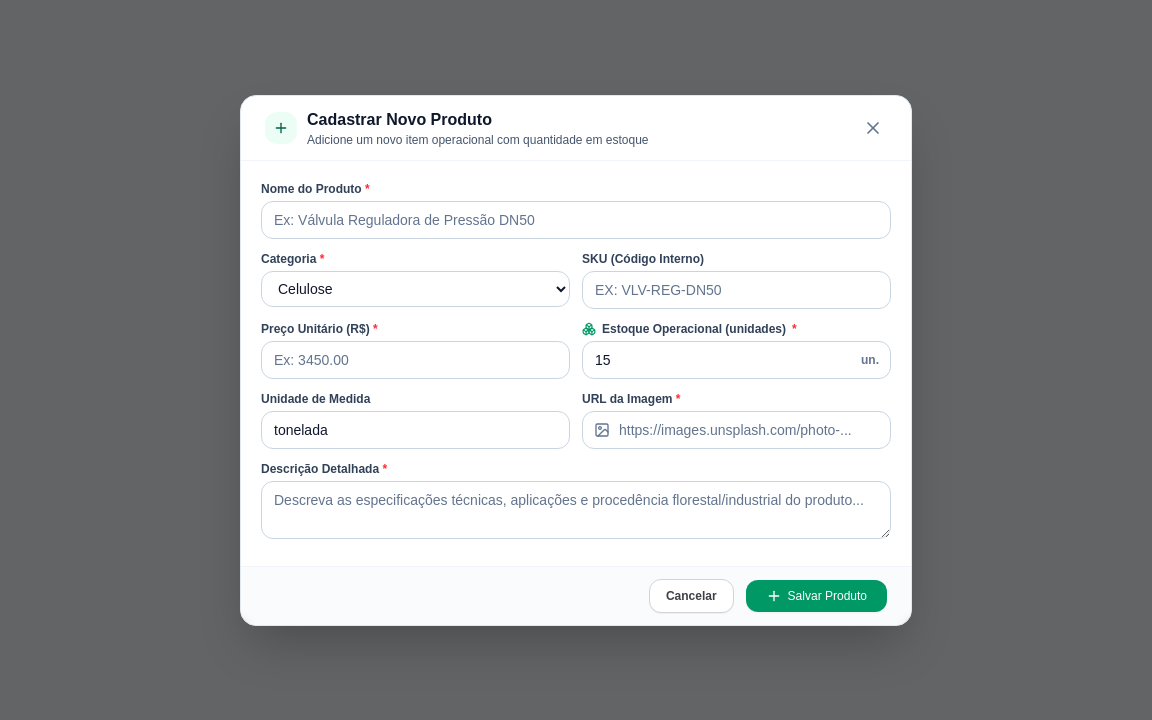
ProductFormModal Component › deve disparar erro de validação para preço negativo ou zero
In the number field labelled "Preço Unitário (R$) *": (416, 360) [261,340,570,378], type "-150"
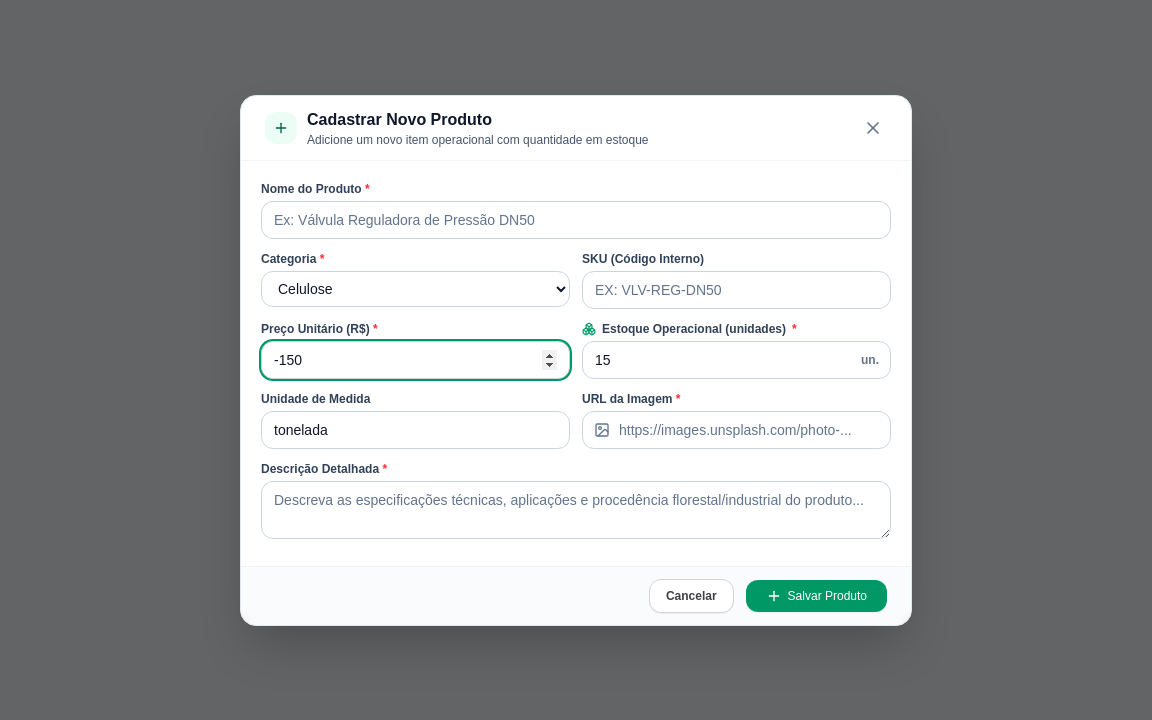
Click the button "Salvar Produto": (816, 596) [746,580,887,612]
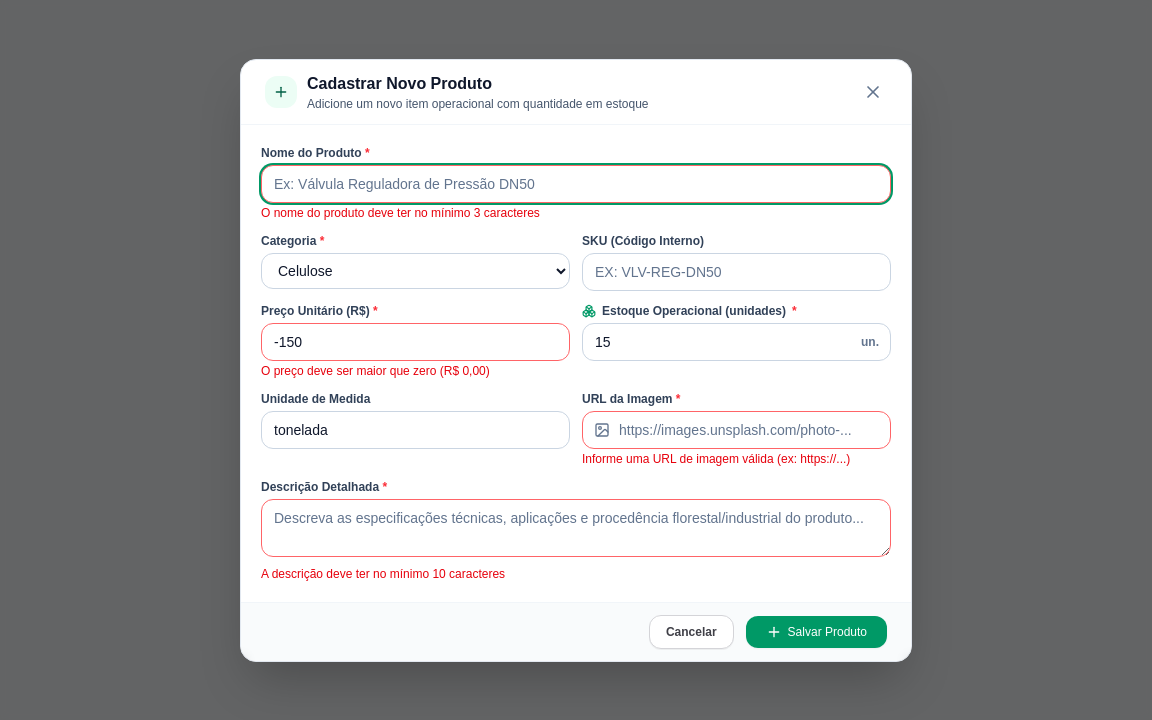
Expected: the text "O preço deve ser maior que zero (R$ 0,00)" is shown, [261,364,490,378]
